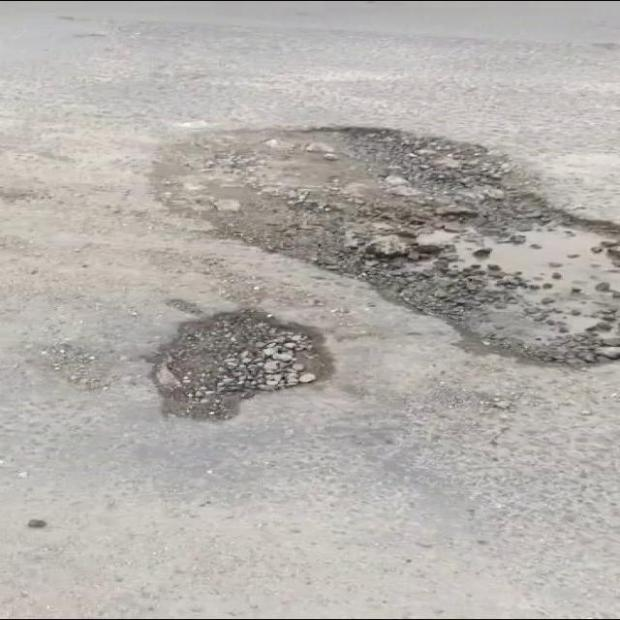lubang: (154, 128, 619, 363), (152, 309, 332, 418)
